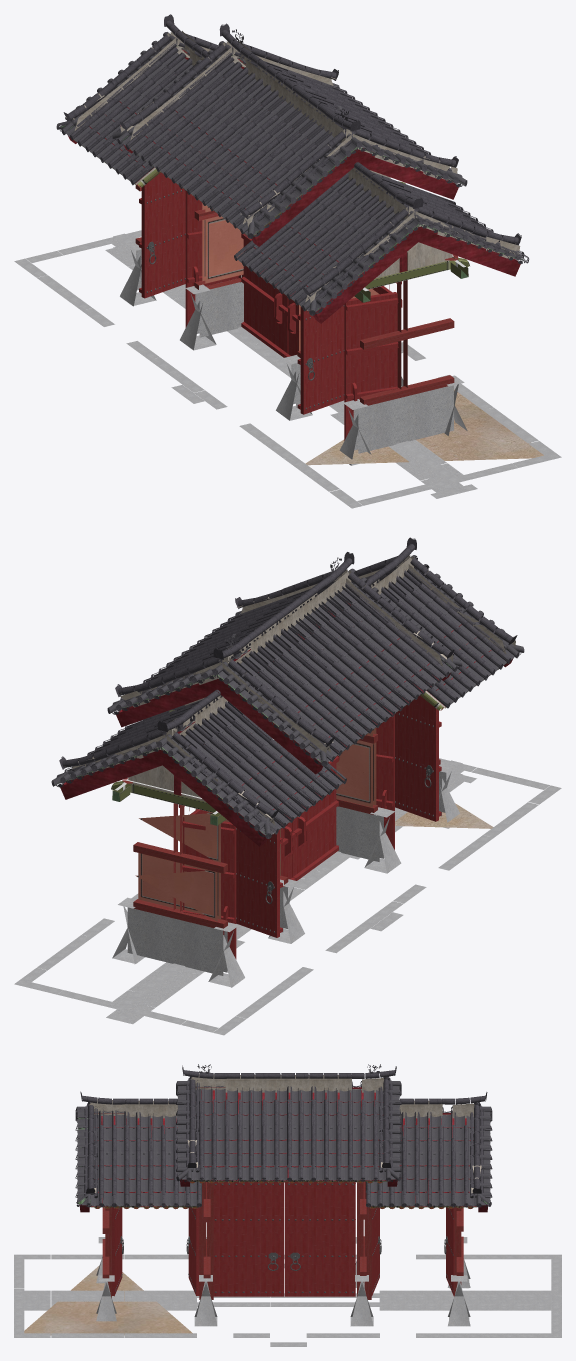
File: jwaik.glb
3 views of the same model, one above another, from view 1: azimuth 30°, elevation 25°; view 2: azimuth 150°, elevation 25°; view 3: azimuth 270°, elevation 25° (orthographic). The views are drawn at different scales.
Parts seen in each view (by area): view 1: SM_Jwaikmun, SM_Jwaikmun_MI_R_Roof.010_0.001, SM_Jwaikmun_MI_R_Roof.010_0.002, SM_Jwaikmun_MI_R_Roof.010_0.003; view 2: SM_Jwaikmun, SM_Jwaikmun_MI_R_Roof.010_0.003, SM_Jwaikmun_MI_R_Roof.010_0.002, SM_Jwaikmun_MI_R_Roof.010_0.001, SM_Jwaikmun_MI_R_Roof.010_0.004; view 3: SM_Jwaikmun, SM_Jwaikmun_MI_R_Roof.010_0.002, SM_Jwaikmun_MI_R_Roof.010_0.001, SM_Jwaikmun_MI_R_Roof.010_0.003, SM_Jwaikmun_MI_R_Roof.010_0.004.
Boxes of the visible parts, x1,y1,x2,y2 form: SM_Jwaikmun: (14, 31, 561, 508); SM_Jwaikmun_MI_R_Roof.010_0.001: (219, 23, 521, 315); SM_Jwaikmun_MI_R_Roof.010_0.002: (152, 53, 529, 263); SM_Jwaikmun_MI_R_Roof.010_0.003: (63, 14, 467, 238); SM_Jwaikmun: (14, 555, 561, 1035); SM_Jwaikmun_MI_R_Roof.010_0.003: (59, 568, 462, 829); SM_Jwaikmun_MI_R_Roof.010_0.002: (120, 555, 452, 735); SM_Jwaikmun_MI_R_Roof.010_0.001: (213, 537, 524, 708); SM_Jwaikmun_MI_R_Roof.010_0.004: (64, 707, 334, 807); SM_Jwaikmun: (14, 1073, 561, 1346); SM_Jwaikmun_MI_R_Roof.010_0.002: (75, 1086, 385, 1207); SM_Jwaikmun_MI_R_Roof.010_0.001: (75, 1064, 396, 1207); SM_Jwaikmun_MI_R_Roof.010_0.003: (176, 1081, 487, 1198); SM_Jwaikmun_MI_R_Roof.010_0.004: (430, 1115, 476, 1207).
Size of the model in its own units: 6.18 by 8.01 by 16.44.
Materials: 13 (11 with a texture image).
